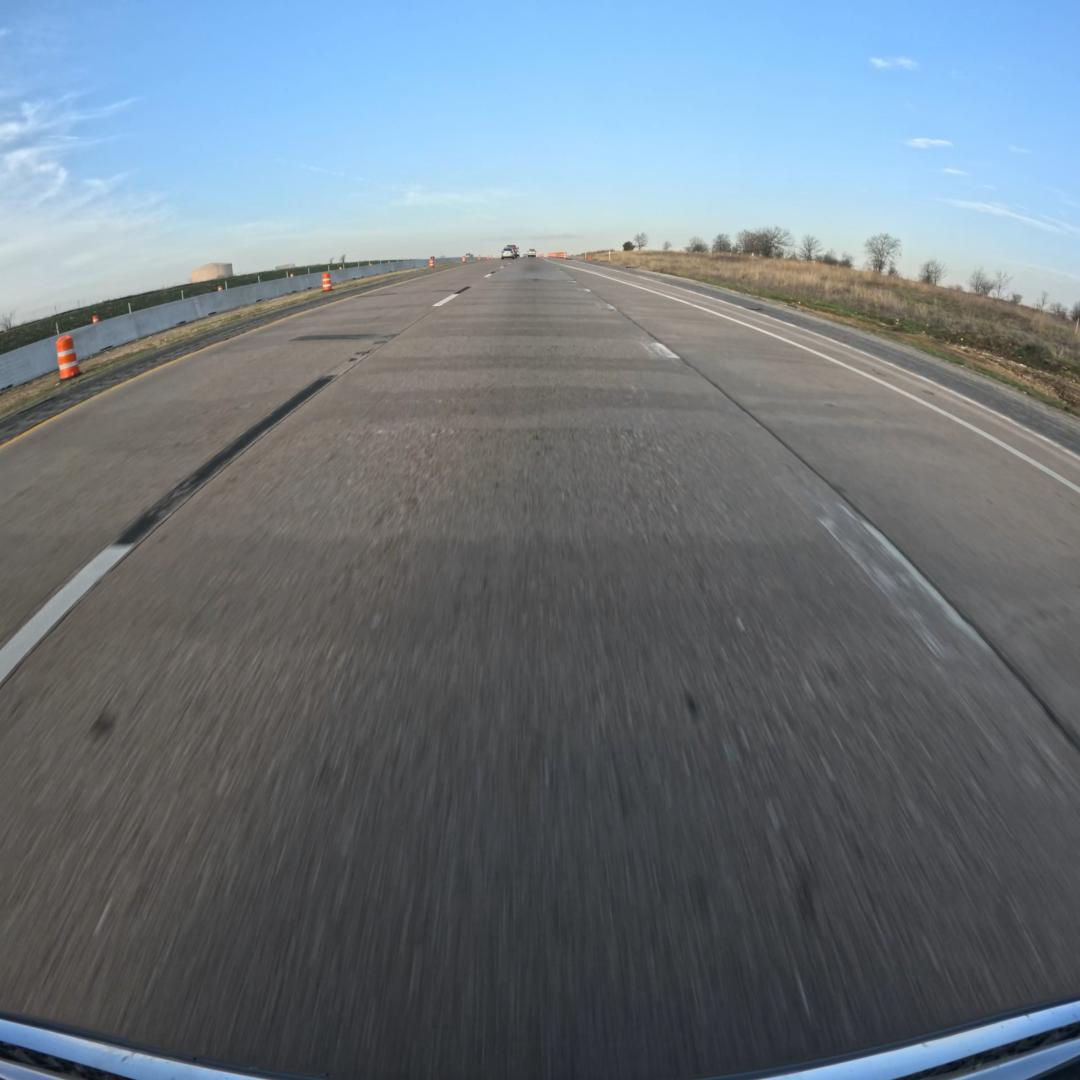lane0: (0, 259, 1080, 1080)
lane1: (0, 261, 501, 685)
